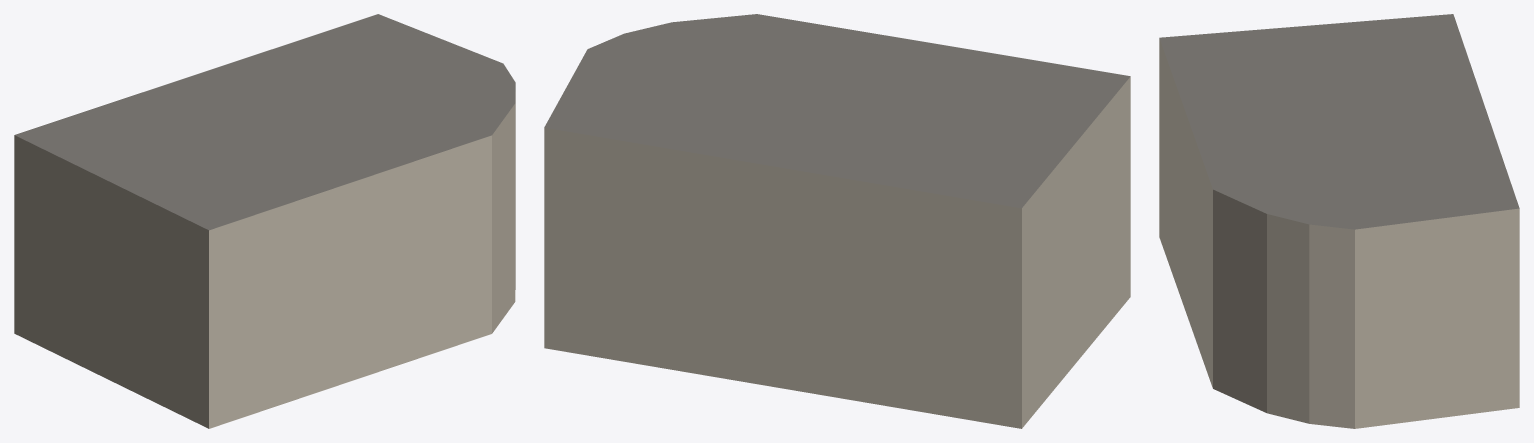
3 renders of one model, left to right at view 1: azimuth 30°, elevation 25°; view 2: azimuth 150°, elevation 25°; view 3: azimuth 270°, elevation 25°, orthographic. The views are drawn at different scales.
Visible parts, largest first — view 1: HP-w495110049; view 2: HP-w495110049; view 3: HP-w495110049.
Part boxes in pixels (x1=…): HP-w495110049: x1=14, y1=14, x2=515, y2=428; HP-w495110049: x1=544, y1=14, x2=1130, y2=428; HP-w495110049: x1=1159, y1=14, x2=1519, y2=428.
Size of the model in its own units: 27.83 by 12 by 19.66.
